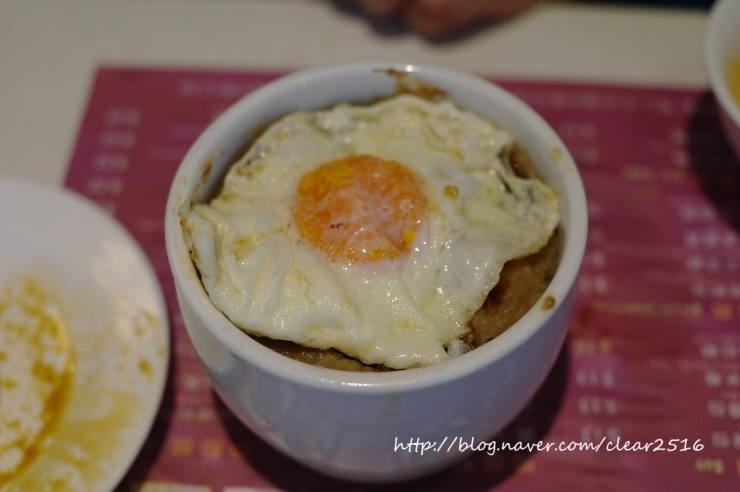fried egg: (205, 106, 536, 337)
